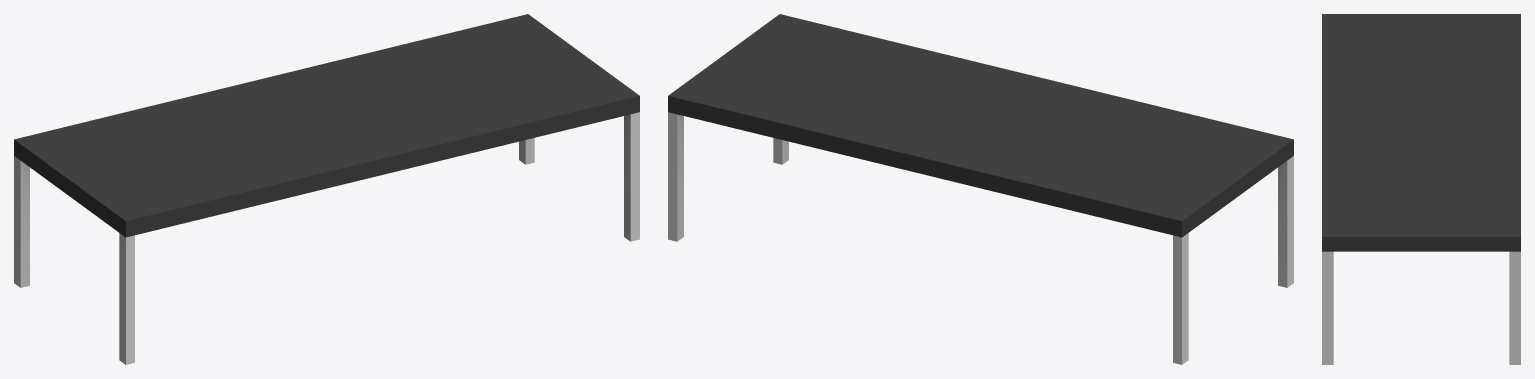
File: modern_coffee_table.glb
3 renders of one model, left to right at view 1: azimuth 30°, elevation 25°; view 2: azimuth 150°, elevation 25°; view 3: azimuth 270°, elevation 25°, orthographic. The views are drawn at different scales.
Parts seen in each view (by area): view 1: coffee_table_target; view 2: coffee_table_target; view 3: coffee_table_target.
Boxes of the visible parts, x1,y1,x2,y2 form: coffee_table_target: (14,14,639,364); coffee_table_target: (668,14,1293,364); coffee_table_target: (1322,14,1520,364).
Bounding box in the file's own units: 1.69 × 0.4506 × 0.6351.
Materials: 1 (1 with a texture image).
